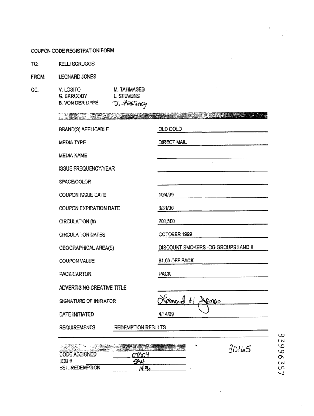textline: (114, 324, 268, 332), (156, 126, 268, 134), (156, 152, 268, 160), (156, 165, 268, 173), (156, 178, 268, 186), (156, 191, 268, 199), (156, 205, 268, 213), (156, 218, 268, 226), (156, 231, 268, 239), (156, 244, 268, 252), (157, 271, 268, 279), (157, 311, 268, 319), (156, 139, 268, 146), (156, 258, 268, 265), (157, 285, 268, 292), (157, 298, 268, 305), (85, 359, 186, 366), (112, 352, 186, 359), (112, 365, 186, 372)
